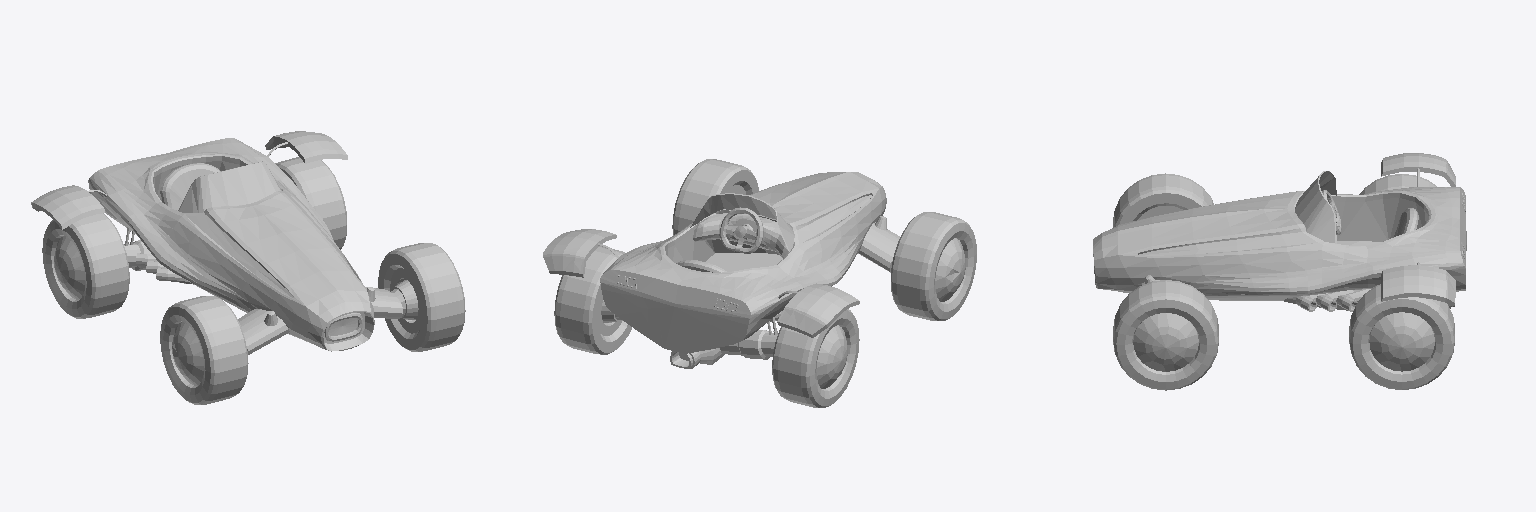
Rendered from ava_car.obj.
3 views of the same model, side by side, from view 1: azimuth 30°, elevation 25°; view 2: azimuth 150°, elevation 25°; view 3: azimuth 270°, elevation 25° (orthographic).
Parts seen in each view (by area): view 1: Mesh_0068; view 2: Mesh_0068; view 3: Mesh_0068.
Boxes of the visible parts, box(x1,y1,x2,y2) form: Mesh_0068: box(31, 131, 465, 404); Mesh_0068: box(543, 159, 976, 407); Mesh_0068: box(1093, 153, 1466, 390).
Size of the model in its own units: 4.67 by 2.31 by 5.25.